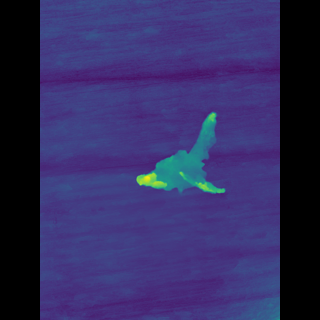Loch: (140, 109, 210, 198)
